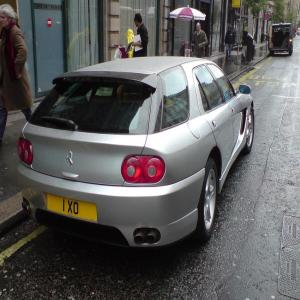Vehicle-registration-plate: (49, 194, 99, 222)
